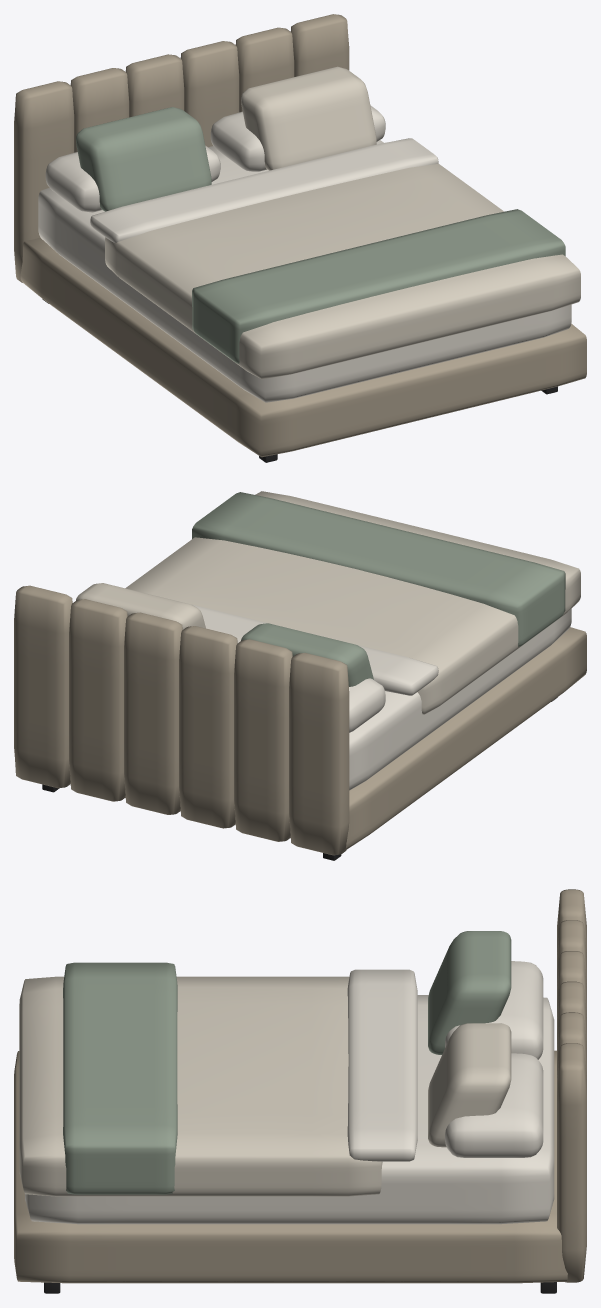
Rendered from bed.glb.
3 views of the same model, one above another, from view 1: azimuth 30°, elevation 25°; view 2: azimuth 150°, elevation 25°; view 3: azimuth 270°, elevation 25° (orthographic). The views are drawn at different scales.
Visible parts, largest first — view 1: duvet, frame, blanket, mattress, duvet_fold, sham0, sham1, head0, head3, head4, head1, head2 (+3 smaller); view 2: duvet, blanket, frame, head0, head4, head1, head5, head2, head3, mattress, duvet_fold, sham0 (+2 smaller); view 3: duvet, frame, blanket, mattress, duvet_fold, sham1, sham0, head5, pillow1, pillow0, head0, head4 (+3 smaller).
Boxes of the visible parts, x1,y1,x2,y2 form: duvet: (105, 163, 580, 379); frame: (20, 237, 586, 457); blanket: (192, 209, 565, 364); mattress: (38, 140, 571, 402); duvet_fold: (90, 138, 438, 242); sham0: (76, 107, 211, 211); sham1: (241, 66, 376, 170); head0: (14, 81, 74, 282); head3: (180, 41, 239, 147); head4: (235, 27, 294, 112); head1: (70, 68, 129, 152); head2: (125, 54, 184, 117); duvet: (125, 491, 580, 714); blanket: (192, 492, 565, 646); frame: (70, 627, 586, 849); head0: (289, 652, 349, 855); head4: (69, 599, 127, 801); head1: (234, 639, 292, 841); head5: (14, 585, 72, 788); head2: (179, 626, 237, 828); head3: (124, 612, 182, 814); mattress: (349, 609, 571, 790); duvet_fold: (153, 595, 438, 695); sham0: (241, 623, 373, 686); duvet: (19, 976, 382, 1196); frame: (14, 1050, 567, 1283); blanket: (63, 962, 177, 1194); mattress: (25, 995, 554, 1224); duvet_fold: (347, 969, 417, 1161); sham1: (428, 1023, 511, 1147); sham0: (428, 931, 511, 1054); head5: (557, 1043, 586, 1282); pillow1: (445, 1053, 543, 1157); pillow0: (445, 961, 543, 1059); head0: (557, 889, 586, 955); head4: (557, 1012, 586, 1078).
Bounding box in the file's own units: 1.6 × 0.95 × 2.1.
